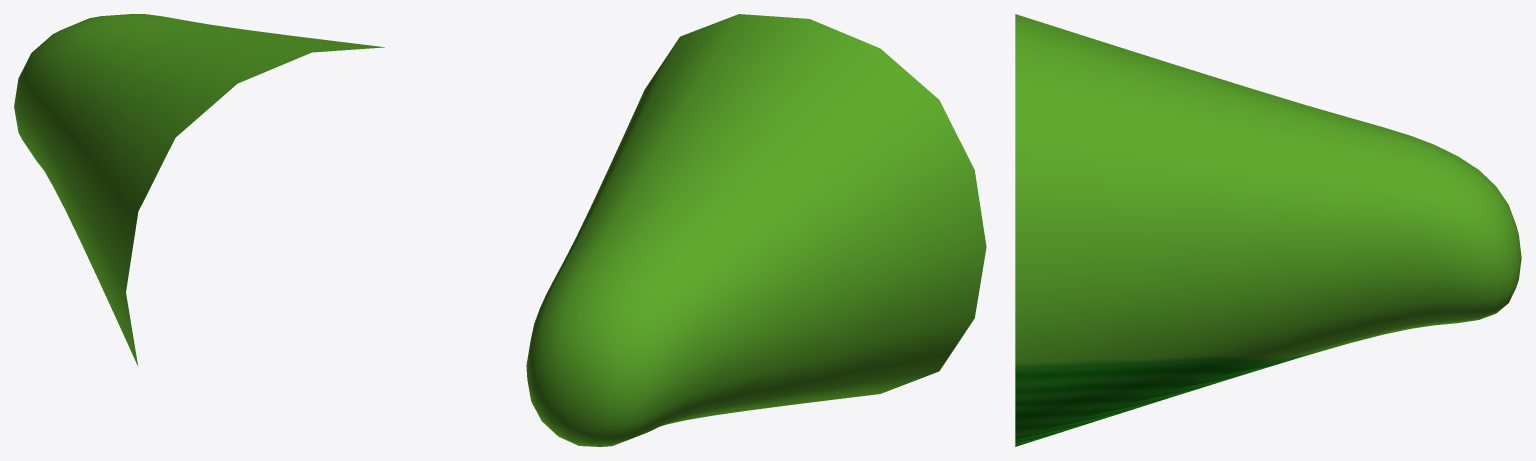
File: turtle-tail-smoothed.gltf
3 renders of one model, left to right at view 1: azimuth 30°, elevation 25°; view 2: azimuth 150°, elevation 25°; view 3: azimuth 270°, elevation 25°, orthographic. The views are drawn at different scales.
Bounding box in the file's own units: 0.4647 × 0.4647 × 0.5516.
Materials: 1 (1 with a texture image).
